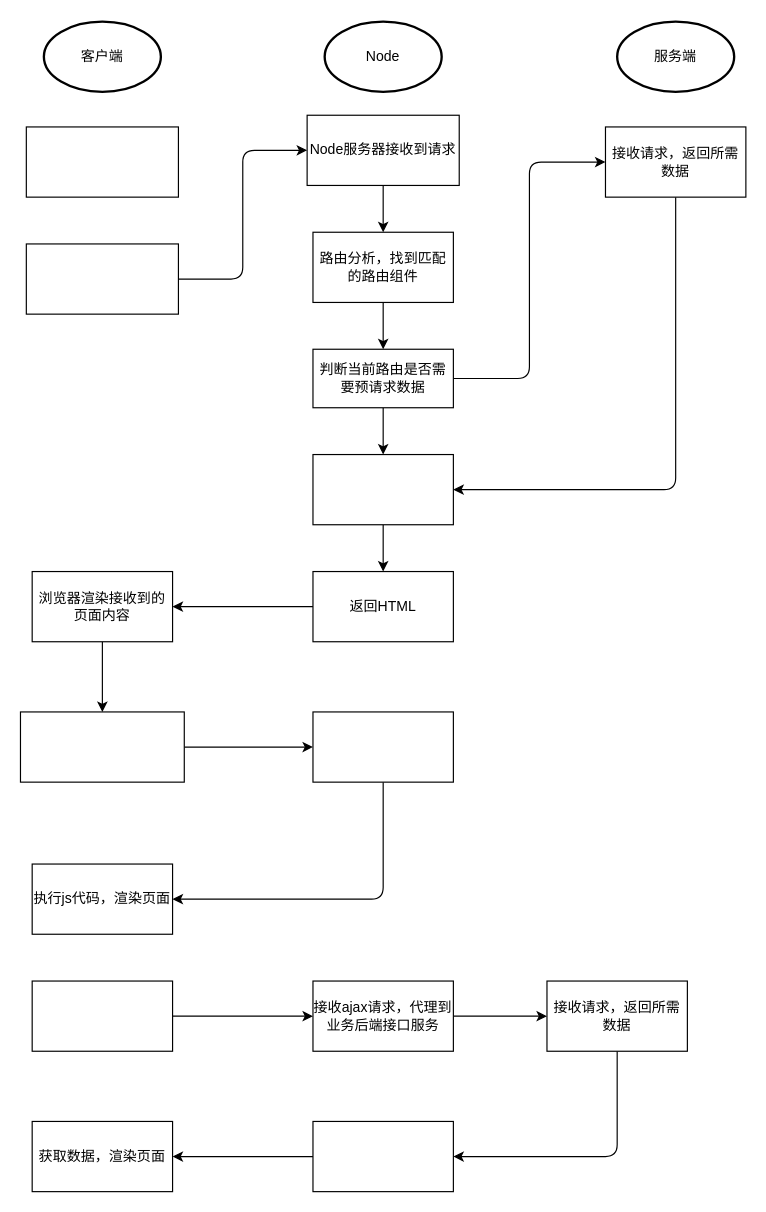
The diagram is 766 pixels wide and 1212 high, and some of its shapes have lost their labels. The centre of each missing label's shape, as x and y in pixels:
之后的页面交互，发送ajax请求: pixel 102 1015
当读取到script标签时，再次向服务器发送请求: pixel 101 746
执行装载数据，提前引入样式等操作: pixel 382 489
接收请求并返回对应的js文件: pixel 382 746
浏览器向服务器请求页面资源: pixel 101 278
浏览器地址栏输入URL: pixel 101 161
获取数据并返回: pixel 382 1156
